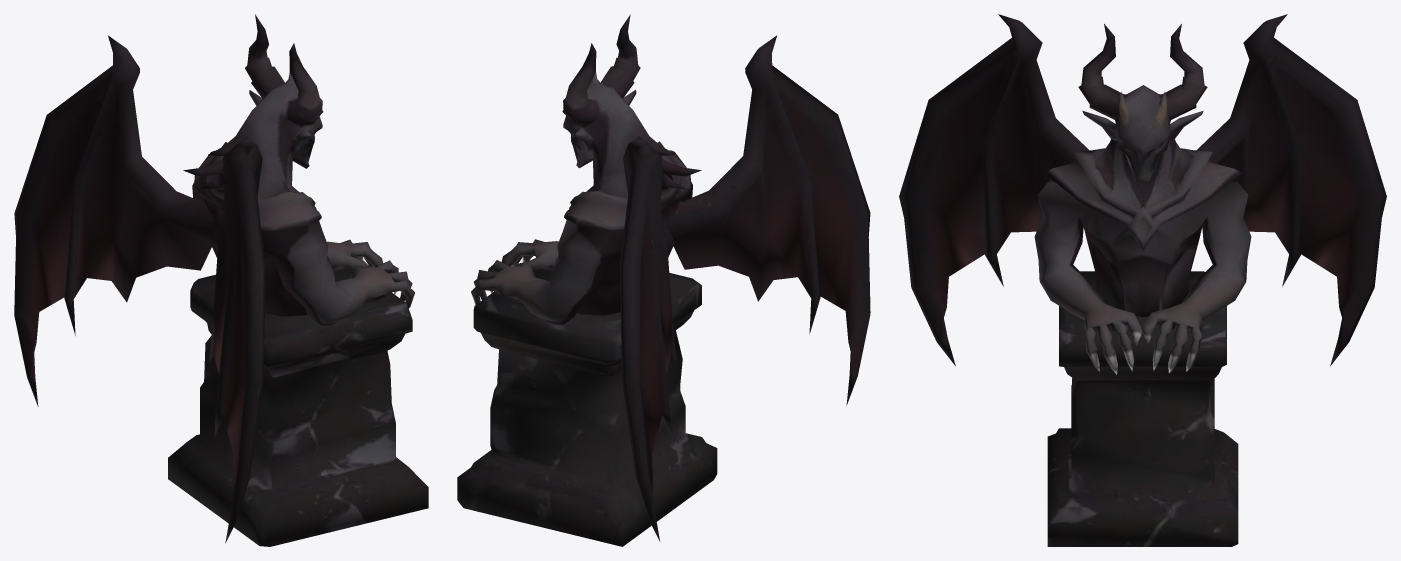
The model's file is demon_idol.glb.
3 views of the same model, side by side, from view 1: azimuth 30°, elevation 25°; view 2: azimuth 150°, elevation 25°; view 3: azimuth 270°, elevation 25° (orthographic).
Parts seen in each view (by area): view 1: tripo_node_0088bb2e-78c0-47c4-8c47-ad374ded0199; view 2: tripo_node_0088bb2e-78c0-47c4-8c47-ad374ded0199; view 3: tripo_node_0088bb2e-78c0-47c4-8c47-ad374ded0199.
Part boxes in pixels (box(x1,y1,x2,y2)): tripo_node_0088bb2e-78c0-47c4-8c47-ad374ded0199: box(14, 14, 428, 546); tripo_node_0088bb2e-78c0-47c4-8c47-ad374ded0199: box(457, 14, 870, 546); tripo_node_0088bb2e-78c0-47c4-8c47-ad374ded0199: box(899, 14, 1386, 546).
Size of the model in its own units: 1.8 by 3 by 2.81.
Materials: 1 (1 with a texture image).
